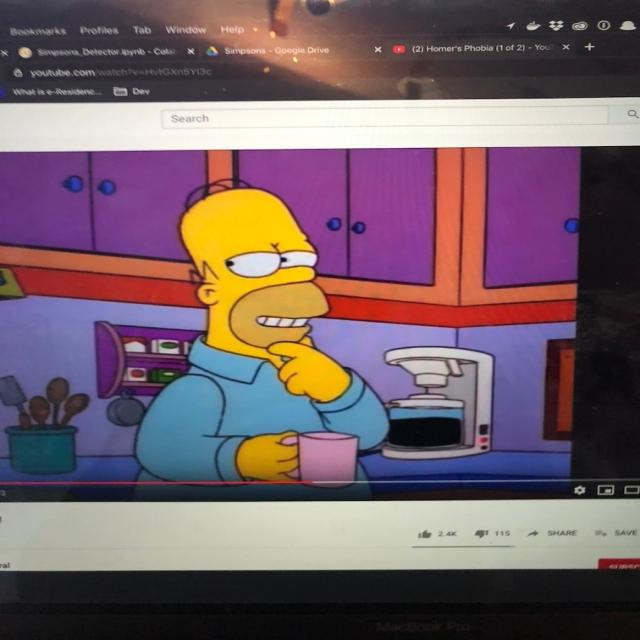Homer Simpson: (176, 174, 334, 366)
